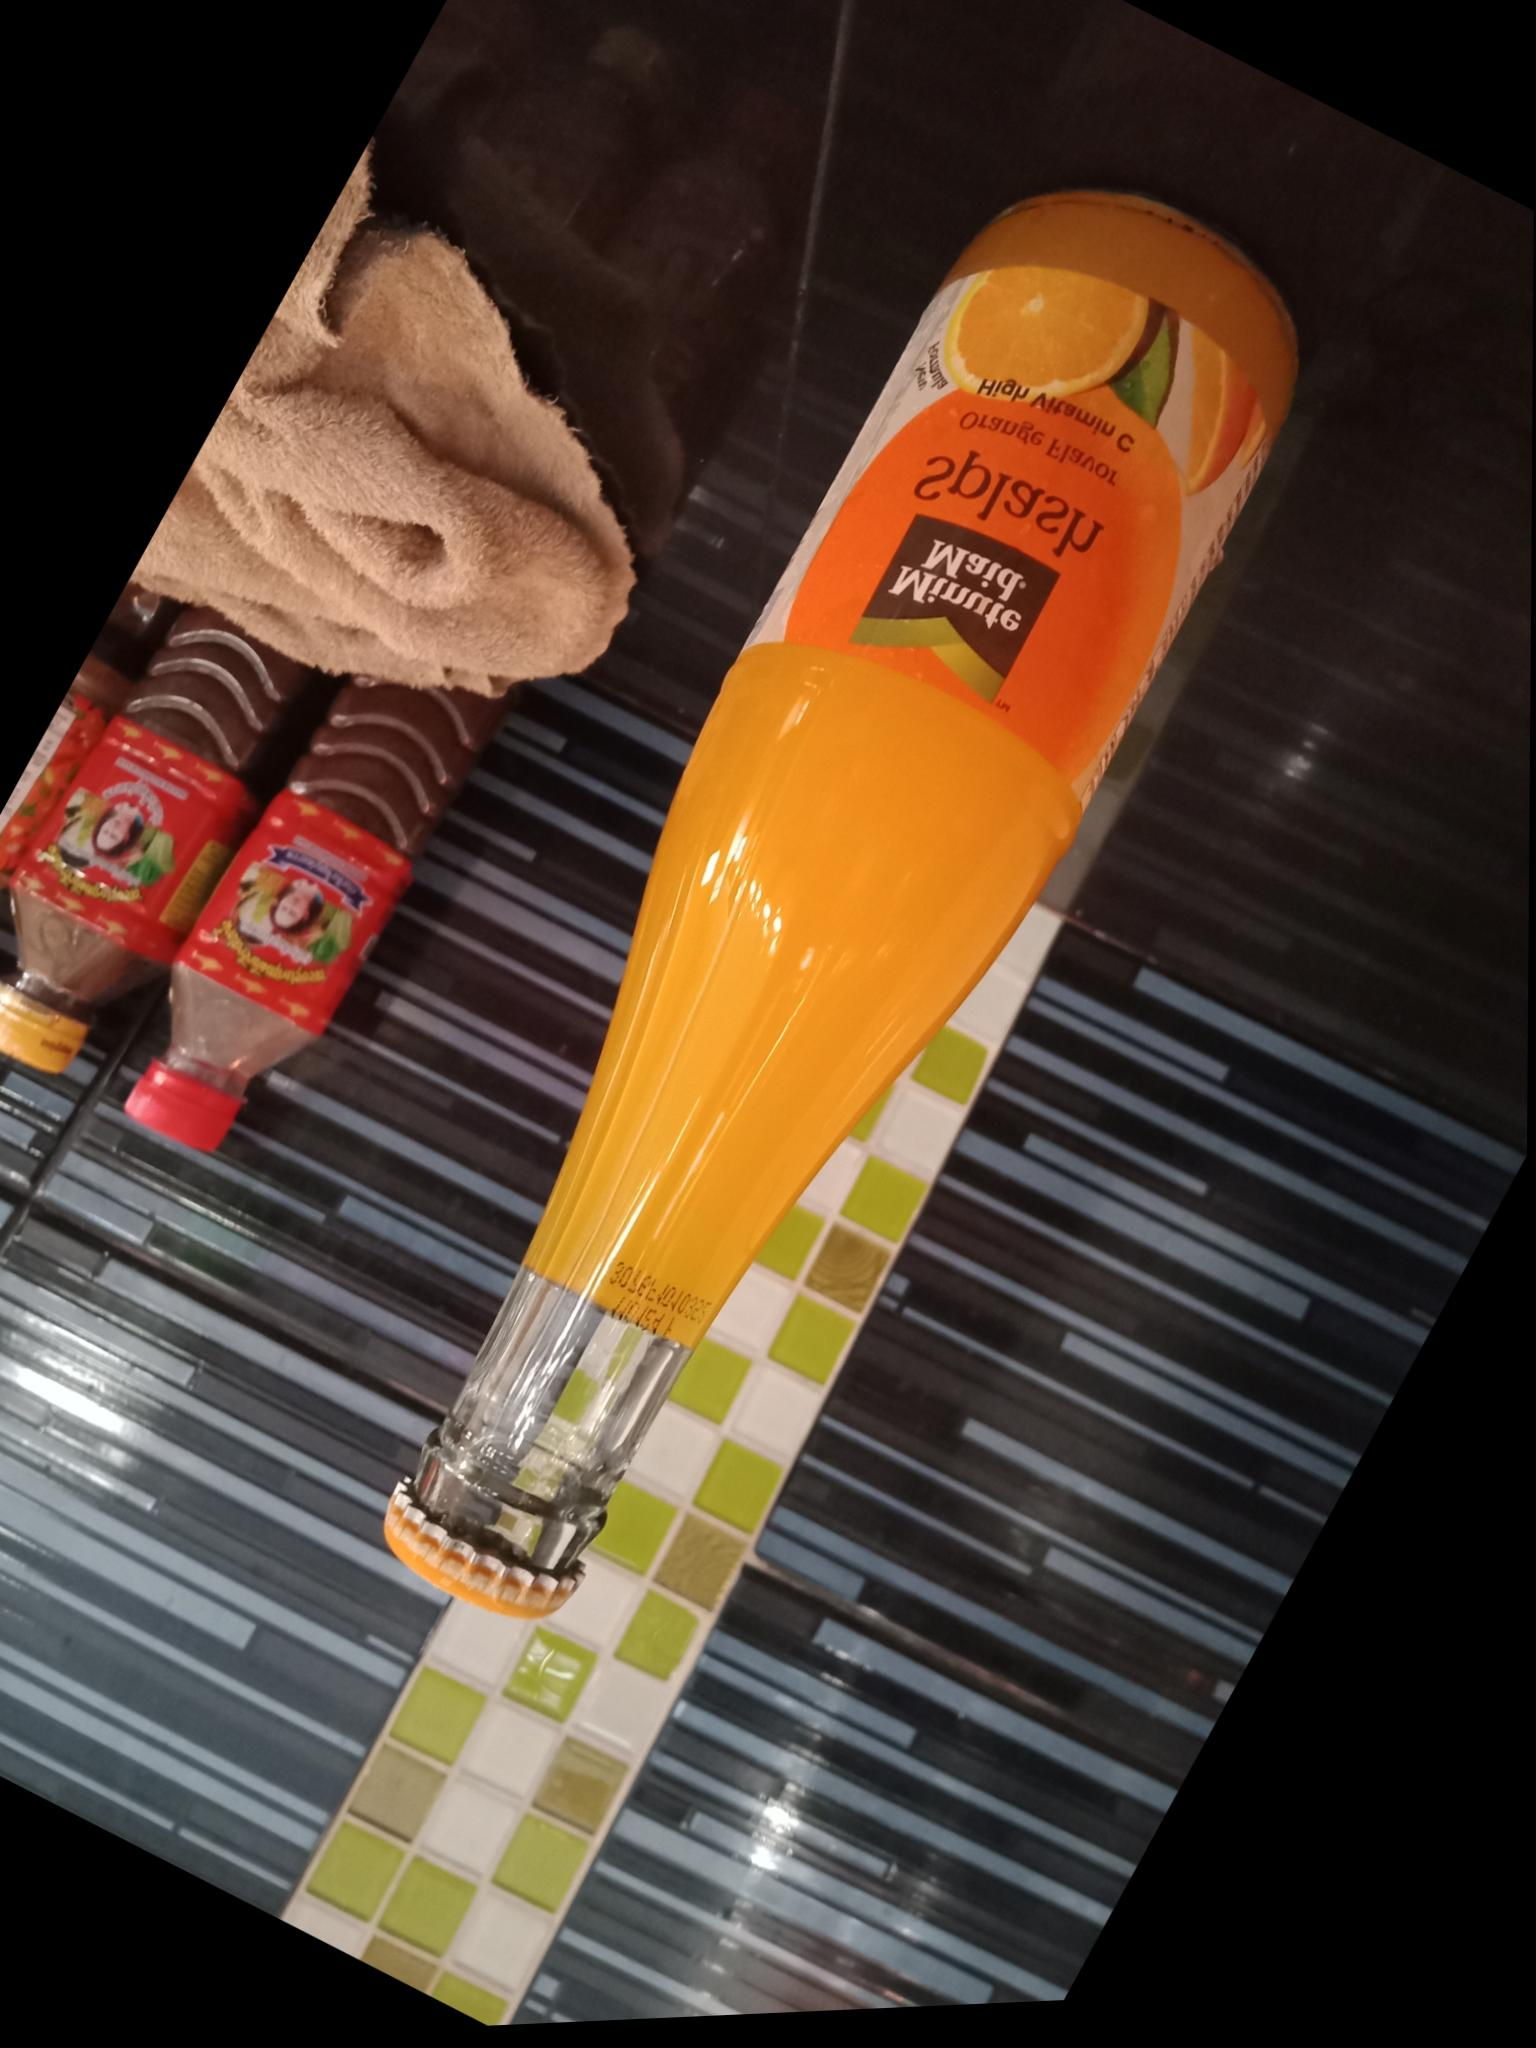glass: (334, 27, 1296, 1606)
metal: (126, 684, 499, 1148), (0, 608, 321, 1069)
